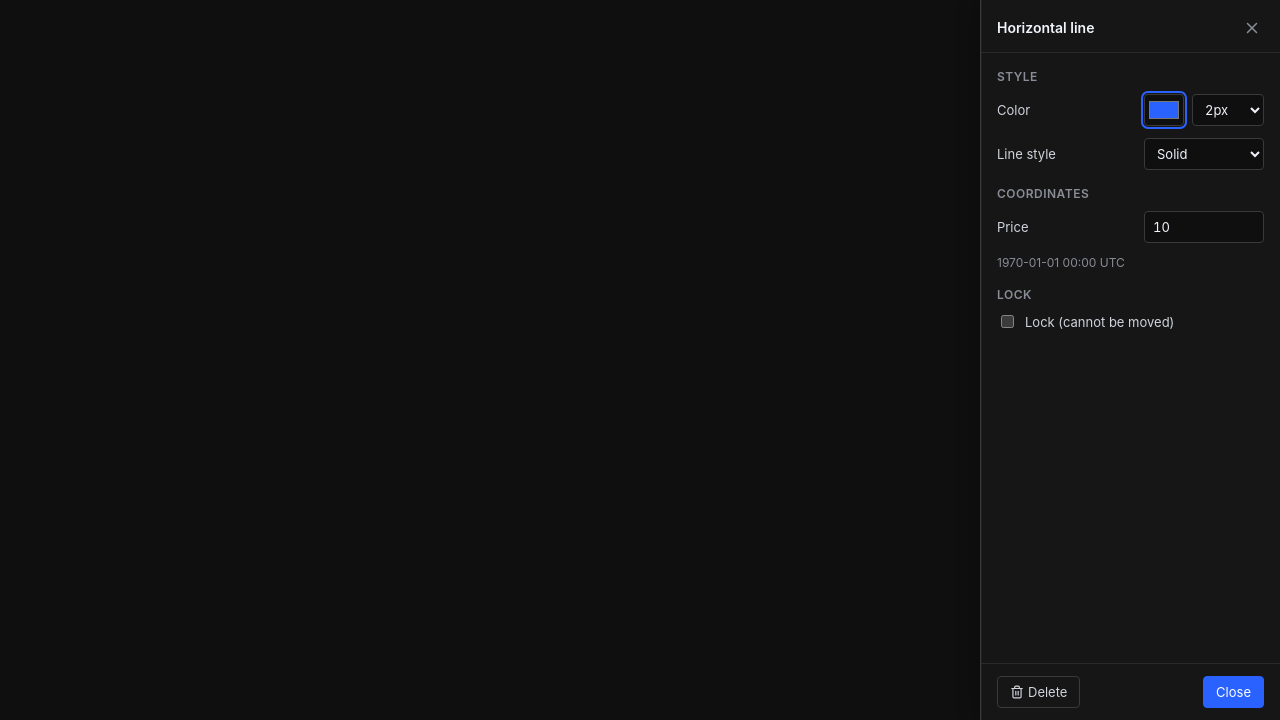
DrawingSettingsPanel › edits the anchor price, and follows a drag made on the chart
Replace the text in the number field with "12.5": (1204, 227) [1144,211,1264,243]
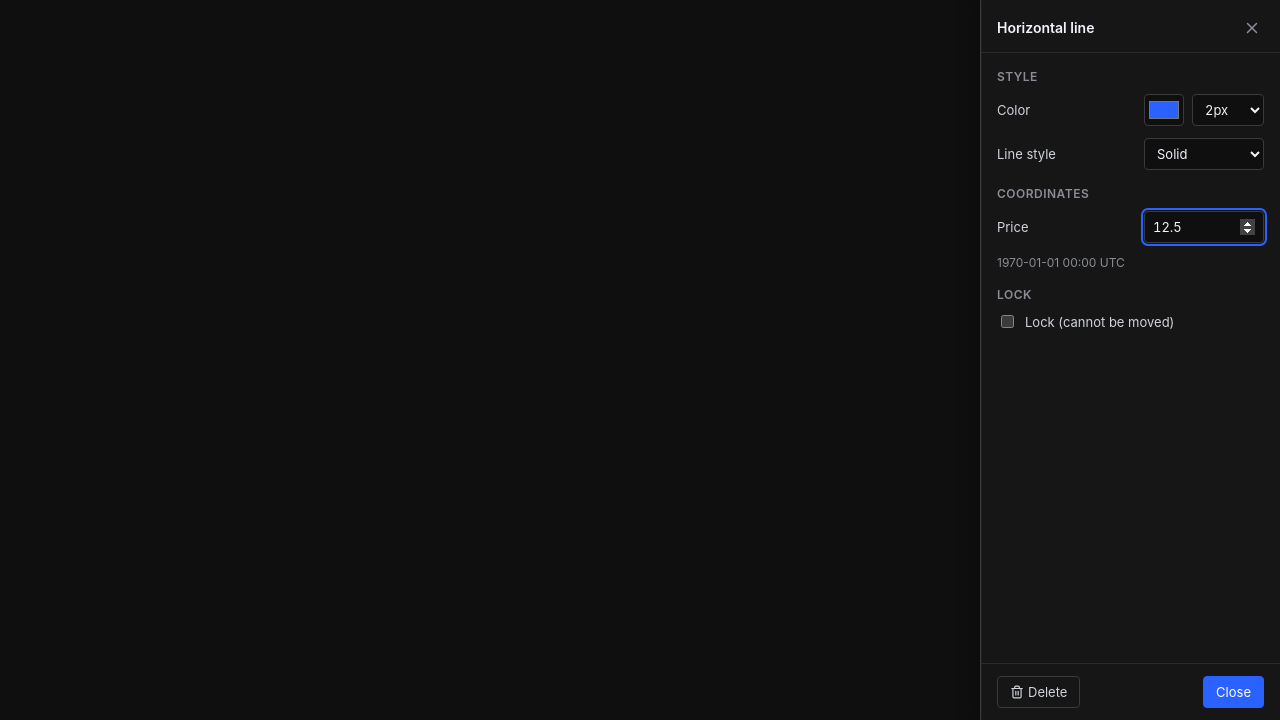
Press Tab
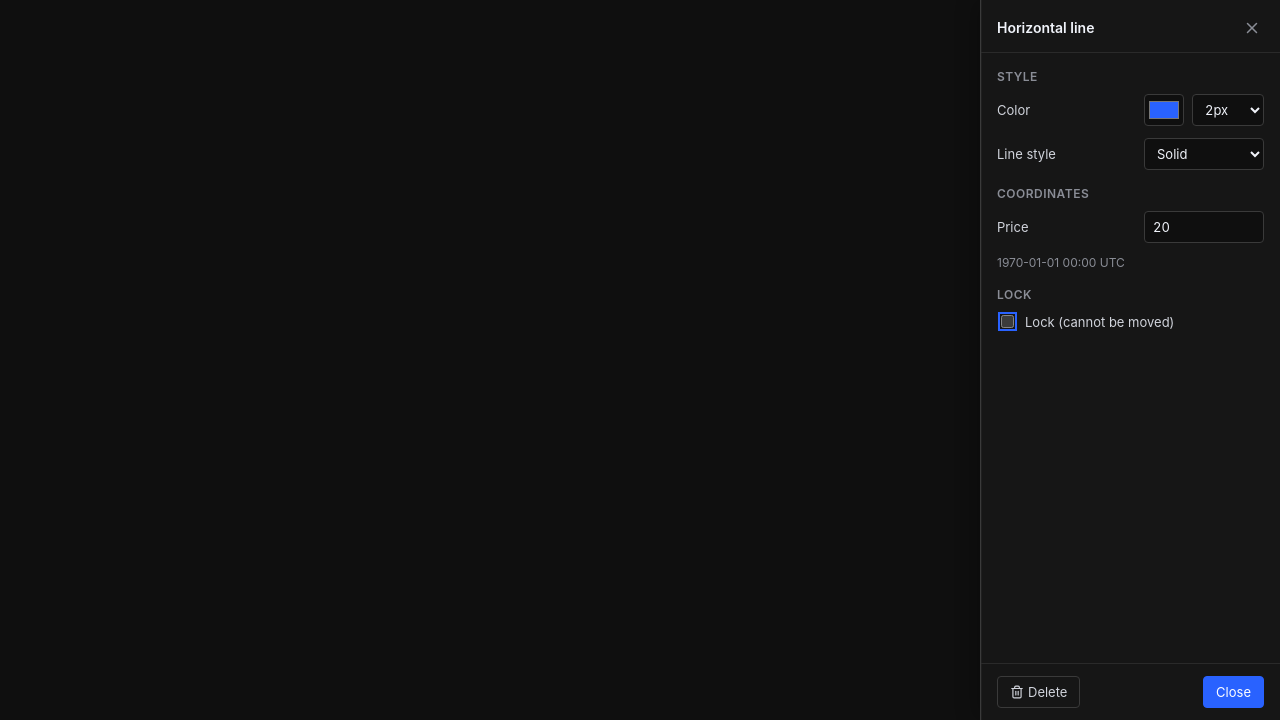
Check: the number field holds "20", box [1144,211,1264,243]
